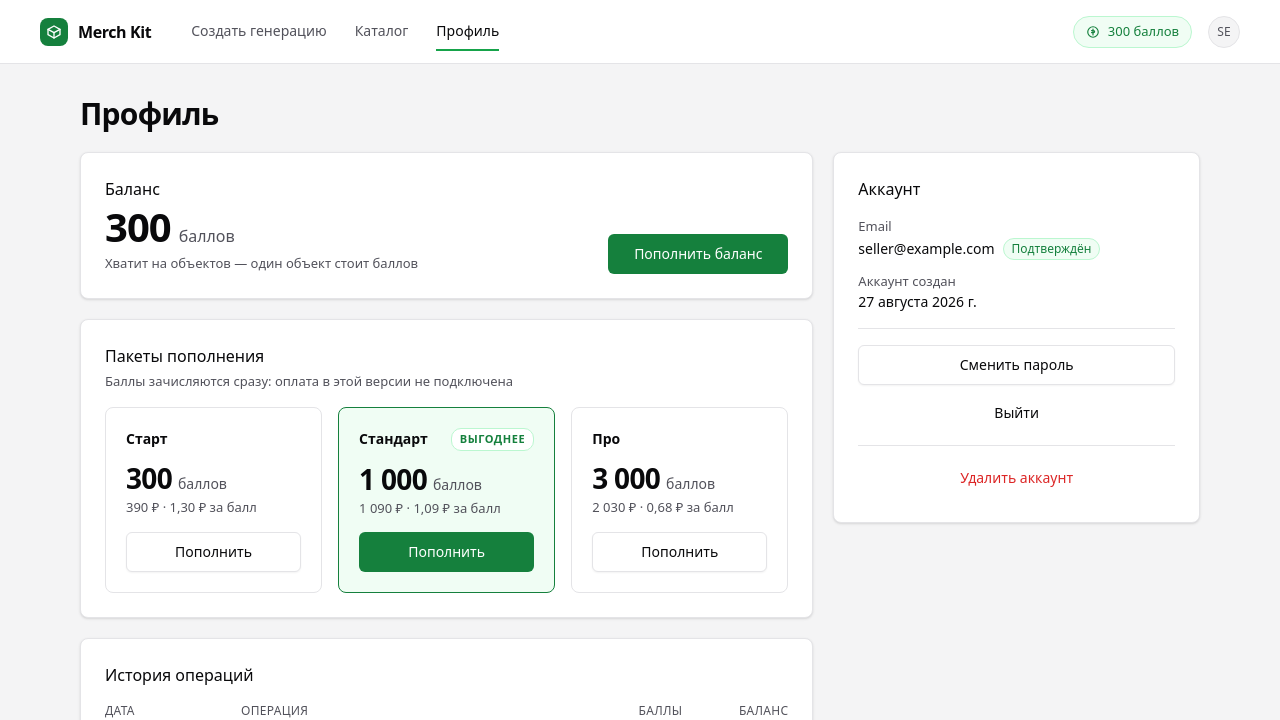
Test: Профиль (US-05, артборд D1 Profile) › предупреждает про стартовые баллы, прежде чем удалить аккаунт (ADR-0009)
The width and height of the screenshot is (1280, 720).
What coordinates should you click on to do the following:
click the button "Удалить аккаунт"
I would click on:
 (1017, 478)
Its box is [858, 458, 1175, 498].
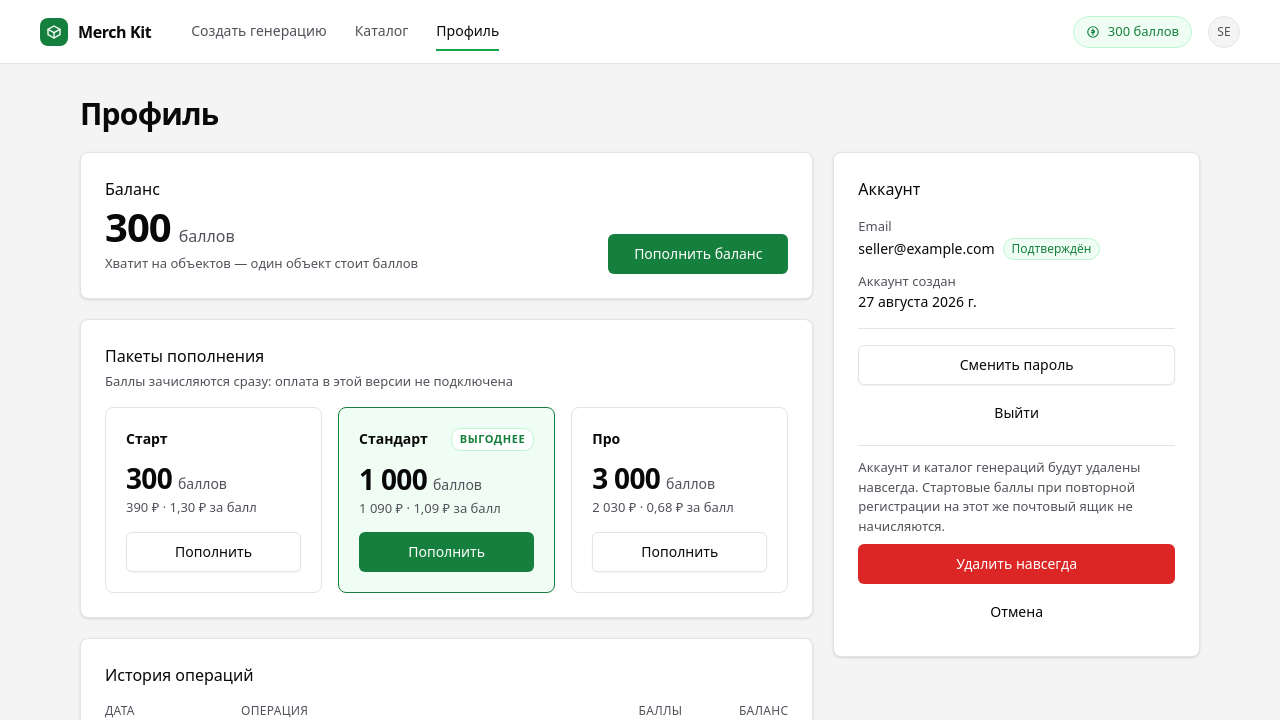
Now the text "Стартовые баллы при повторной регистрации" is shown, box [858, 458, 1140, 535]
Now the button "Удалить навсегда" is shown, box [858, 544, 1175, 584]
